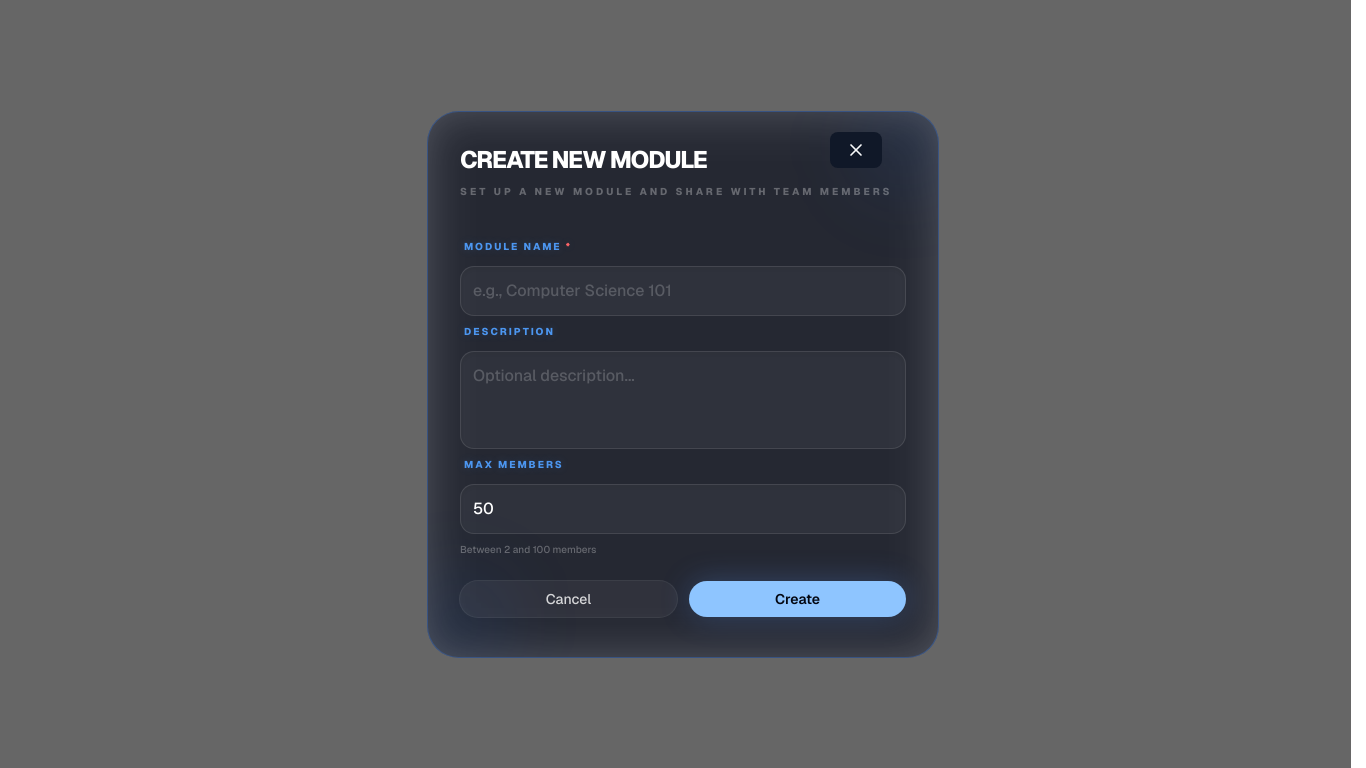
Test: CreateModule › shows success state with PIN after creation
This screenshot has width=1366, height=768.
Step 1. Type "CS101" into the field with placeholder "e.g., Computer Science 101" → [683, 290], box [460,266,906,316]
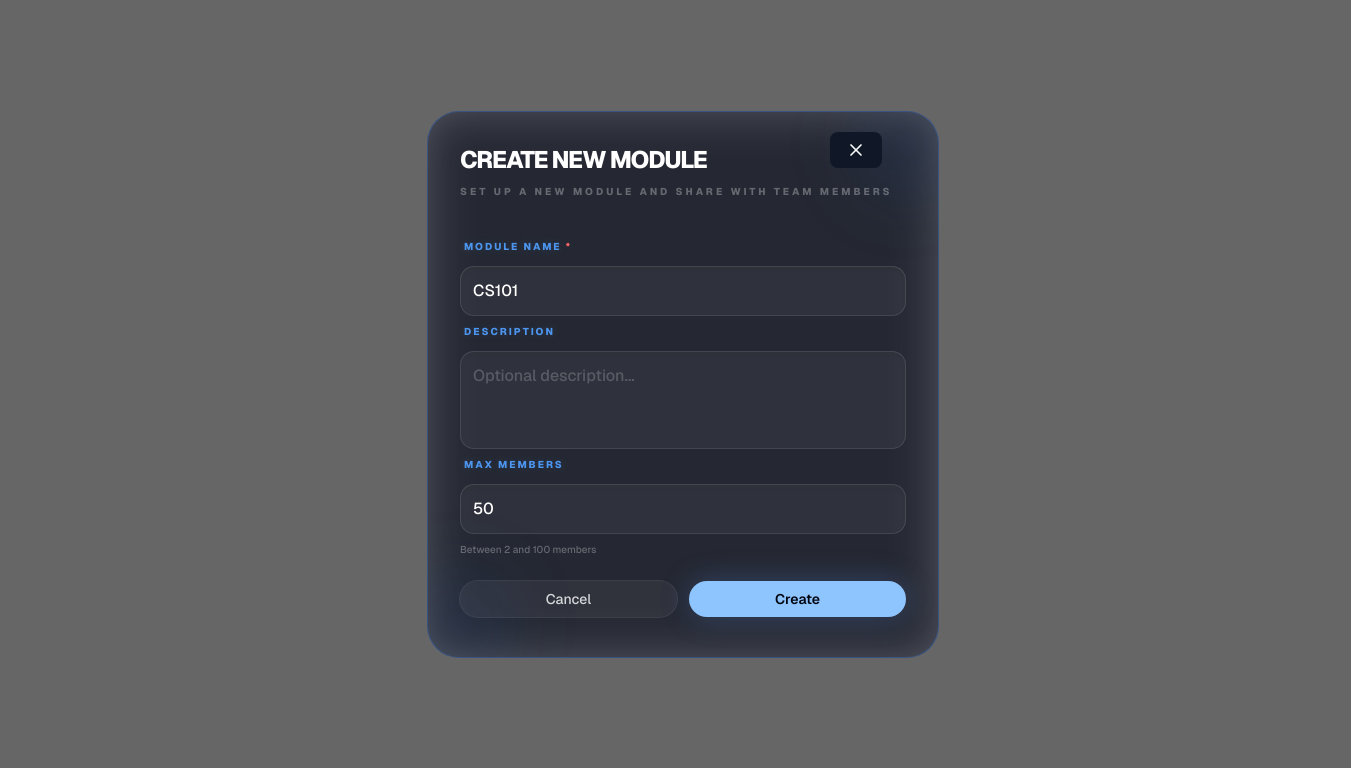
Step 2. Click the button "Create" → [798, 598], box [689,580,906,616]
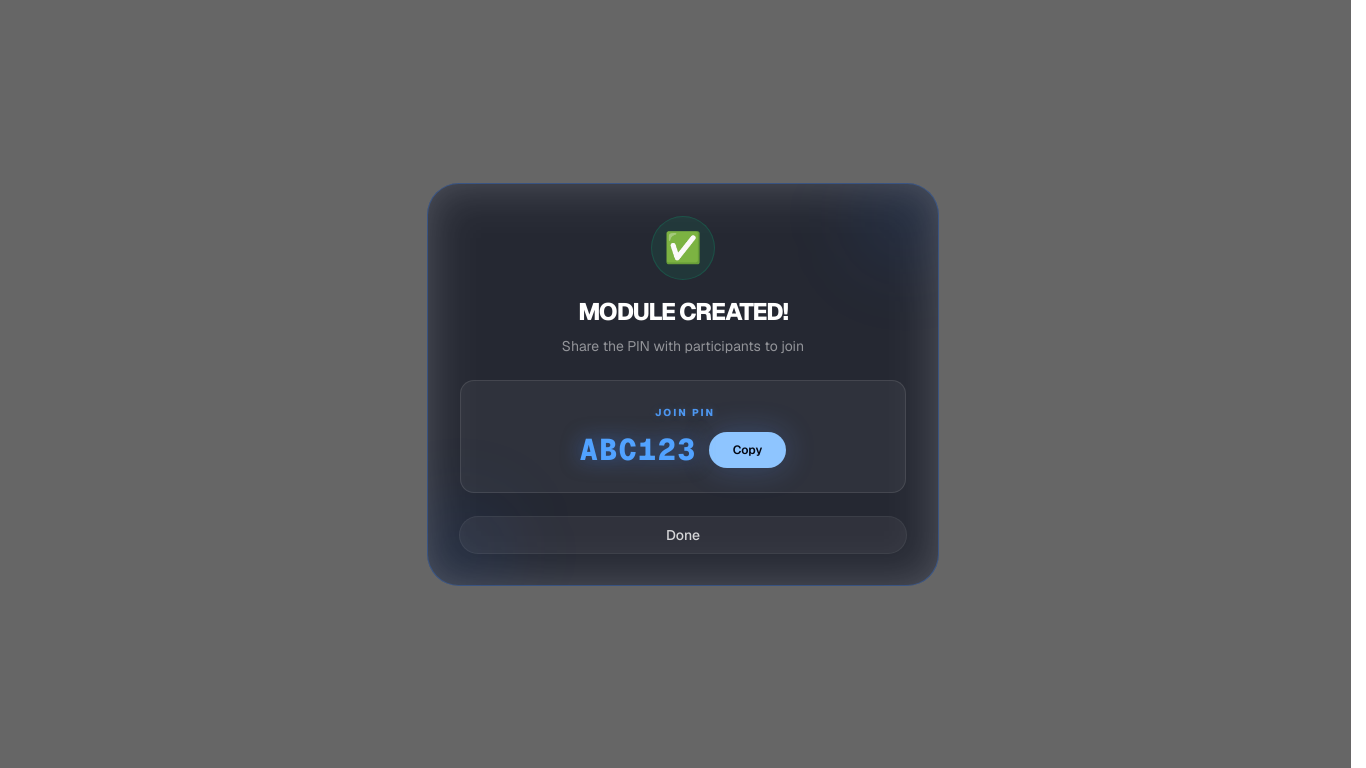
Expected: the heading "Module Created!" is shown, [578,296,788,326]
Expected: the text "ABC123" is shown, [580,432,697,468]
